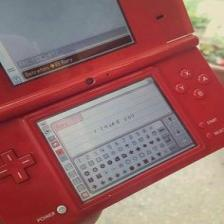red: (0, 0, 224, 224), (84, 146, 209, 216)
